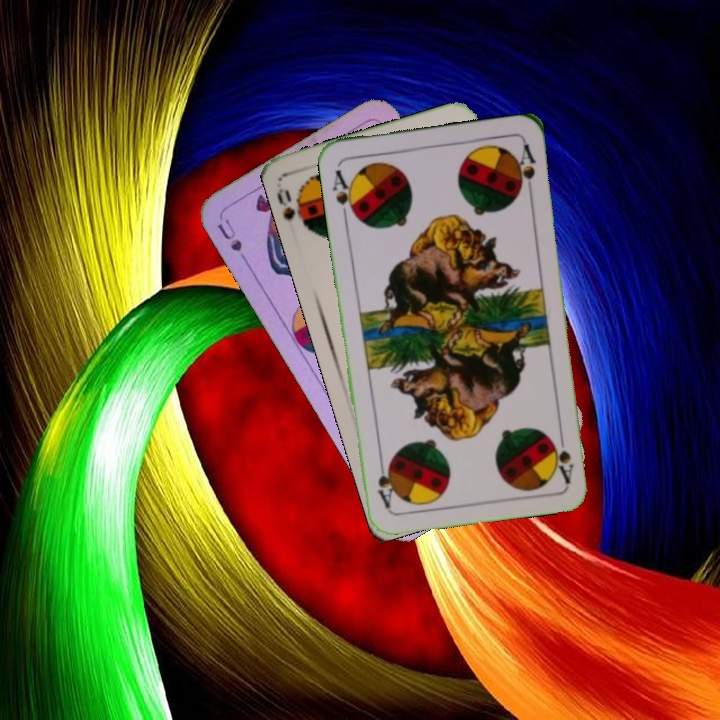SA: (328, 165, 360, 222), (550, 426, 576, 486)
SO: (273, 184, 313, 234)
SU: (213, 215, 254, 269)
